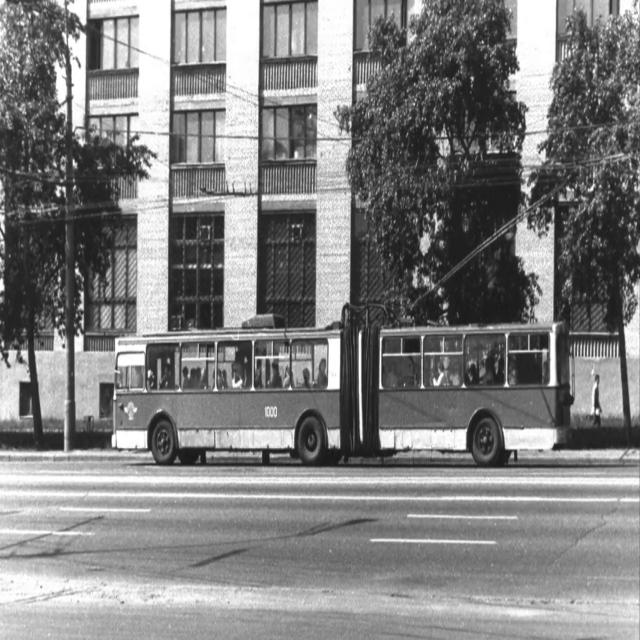bus: (107, 321, 578, 474)
